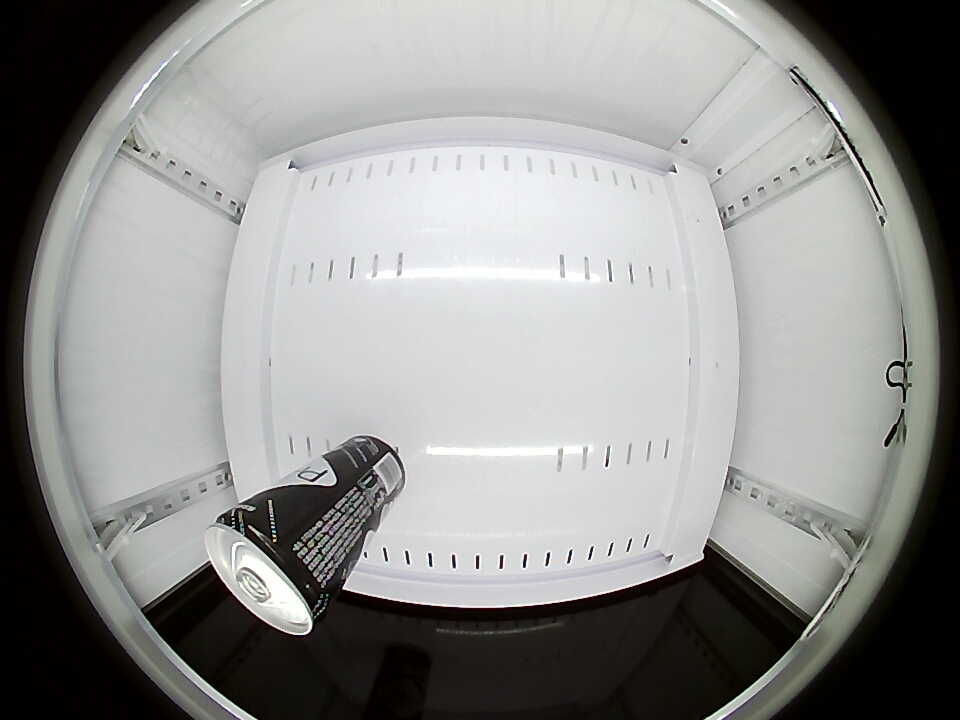qingdaowangzi-1: (205, 503, 337, 636)
